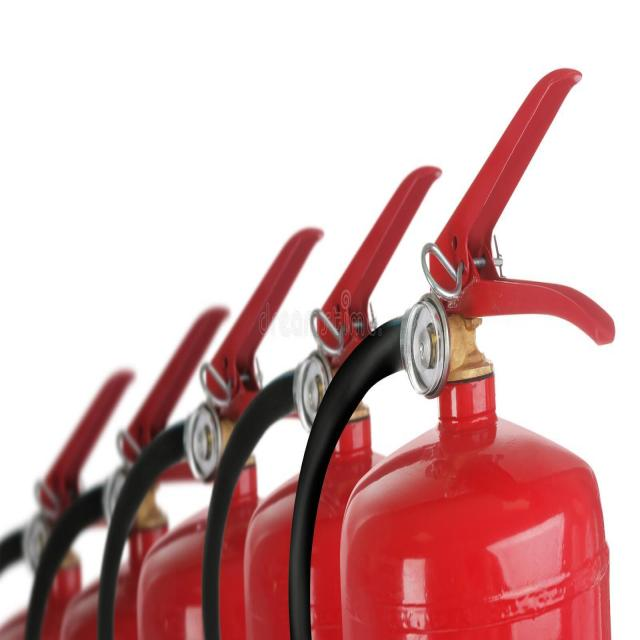fire_extinguisher: (284, 61, 622, 639), (201, 159, 469, 639), (93, 219, 351, 639), (24, 305, 251, 639), (0, 356, 143, 640)
